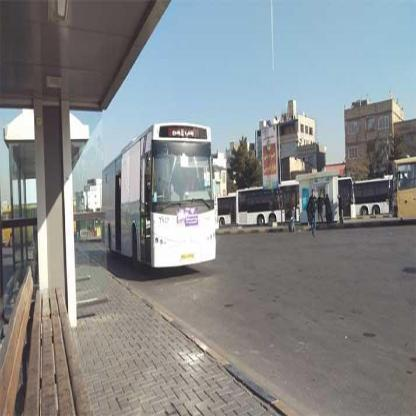Bus: (99, 114, 224, 295), (230, 182, 299, 231), (337, 168, 390, 210)
